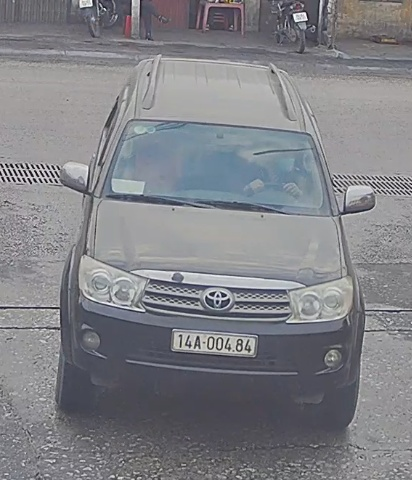vehicle plate: (164, 323, 260, 362)
